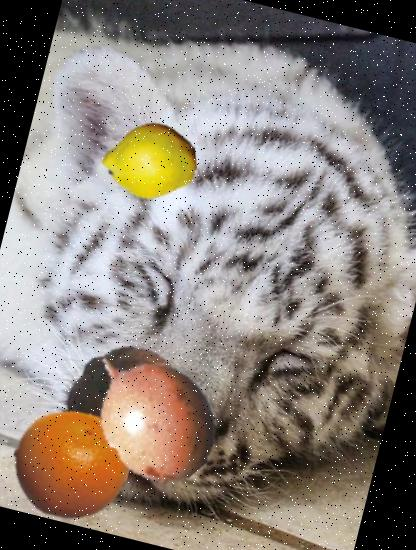Granadilla: (63, 325, 241, 503)
Grapefruit: (0, 394, 142, 535)
Quince: (92, 104, 206, 218)
Walnut: (52, 333, 206, 488)
